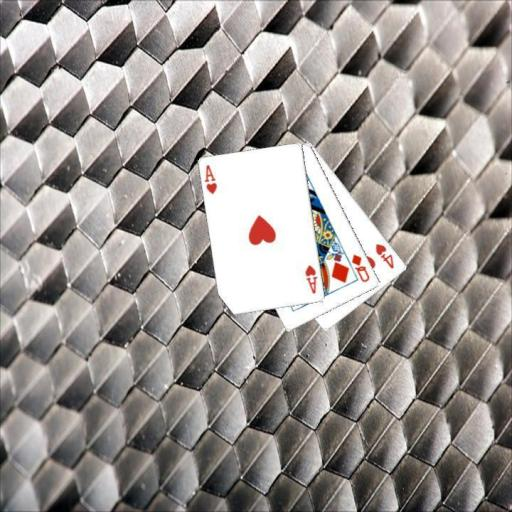card-corner: (348, 251, 372, 284), (373, 240, 396, 270), (302, 262, 320, 295), (202, 162, 218, 196)
